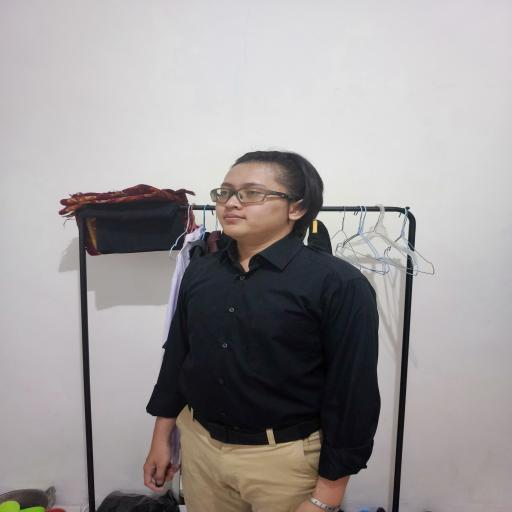celana_salah: (178, 432, 331, 512)
kemeja_salah: (152, 249, 394, 420)
sabuk_ada: (186, 412, 334, 450)
